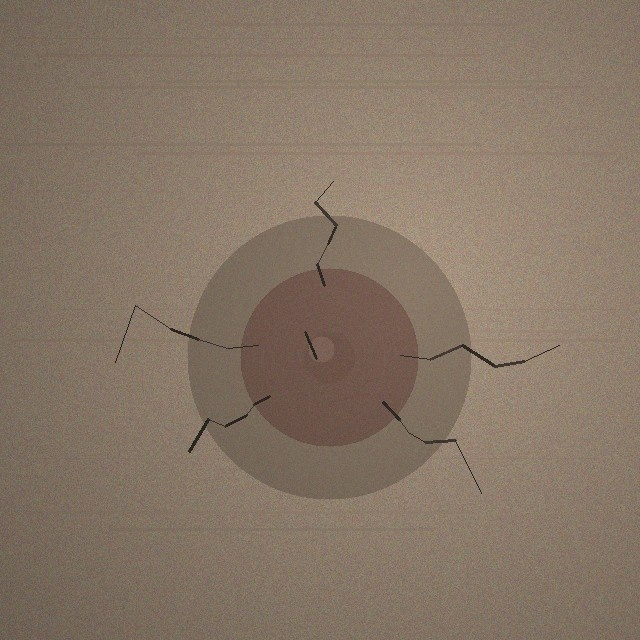crack: (187, 215, 471, 499)
